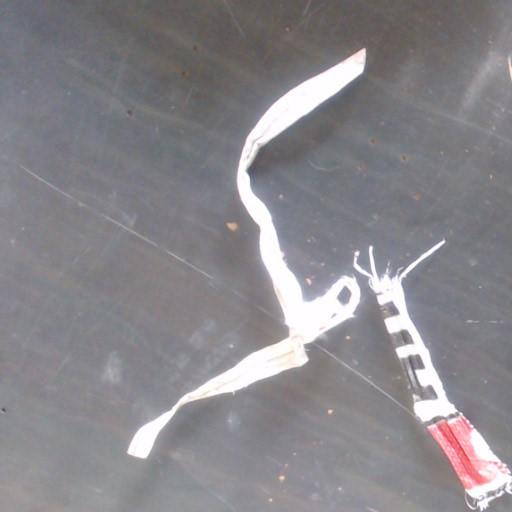cloth: (129, 49, 364, 457), (353, 240, 511, 509)
